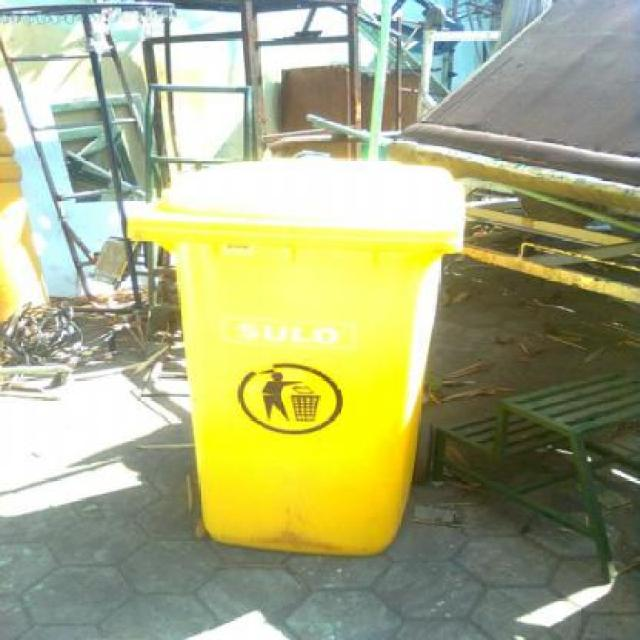garbage container: (133, 155, 485, 580)
